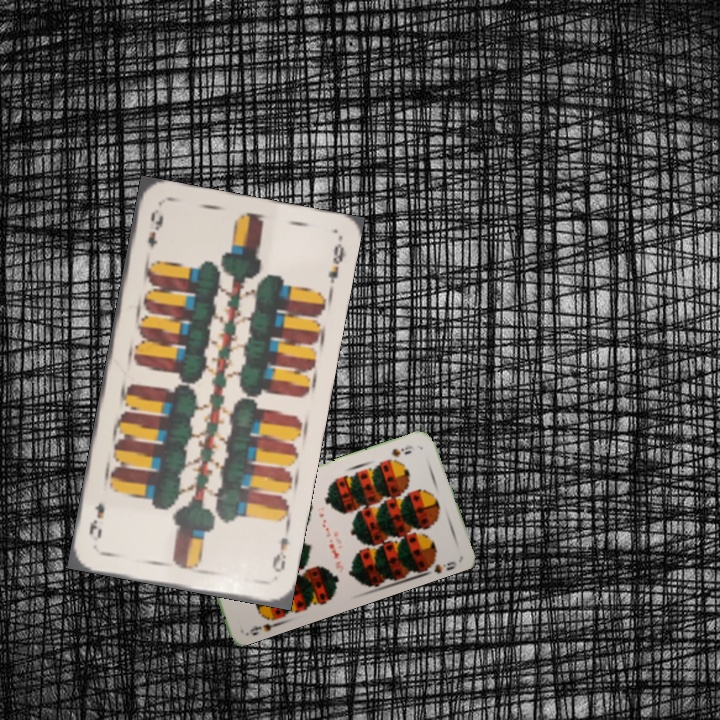E9: (268, 523, 292, 575), (143, 205, 166, 250)
S9: (243, 611, 282, 638), (387, 440, 414, 460)
